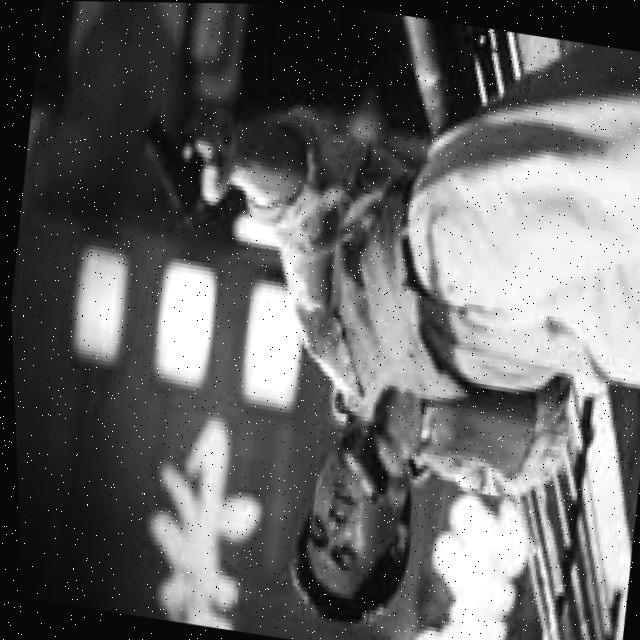pistol: (123, 113, 220, 238), (326, 417, 395, 509)
